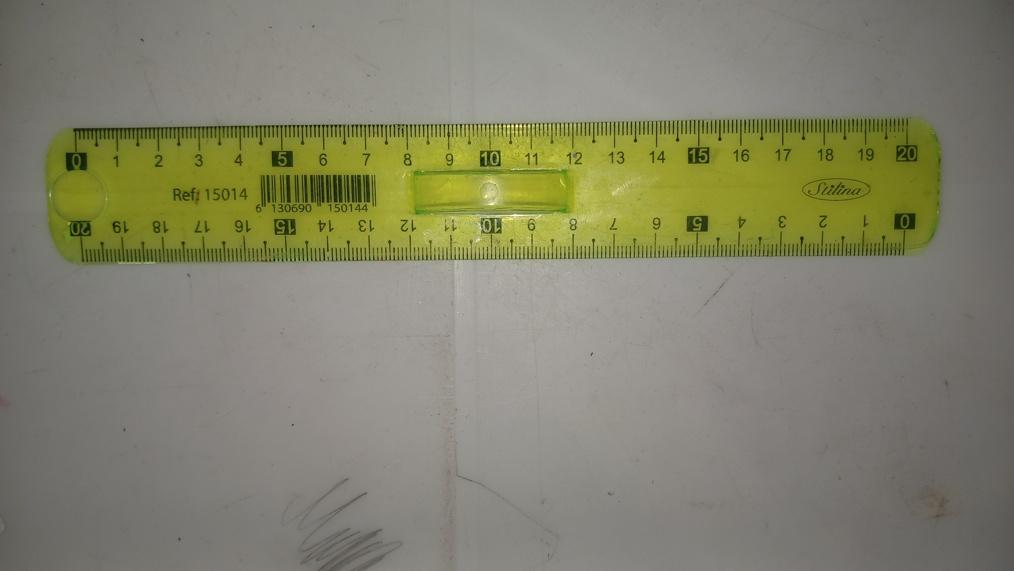Ruler: (50, 119, 943, 266)
